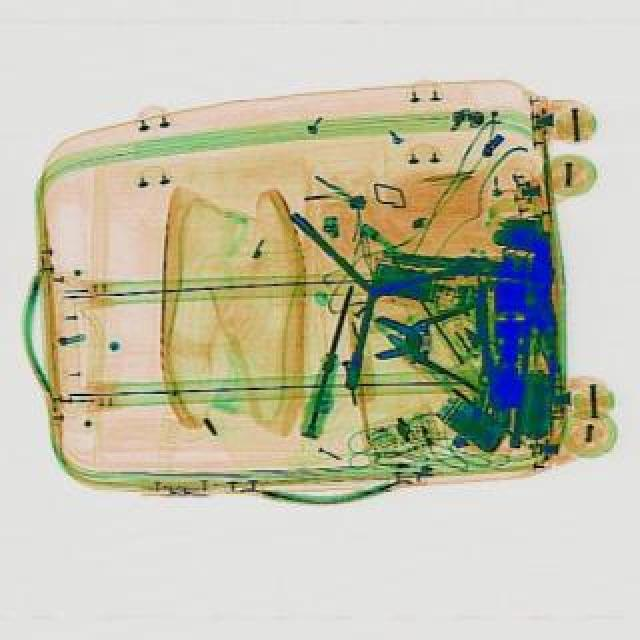wrench: (372, 296, 488, 392)
